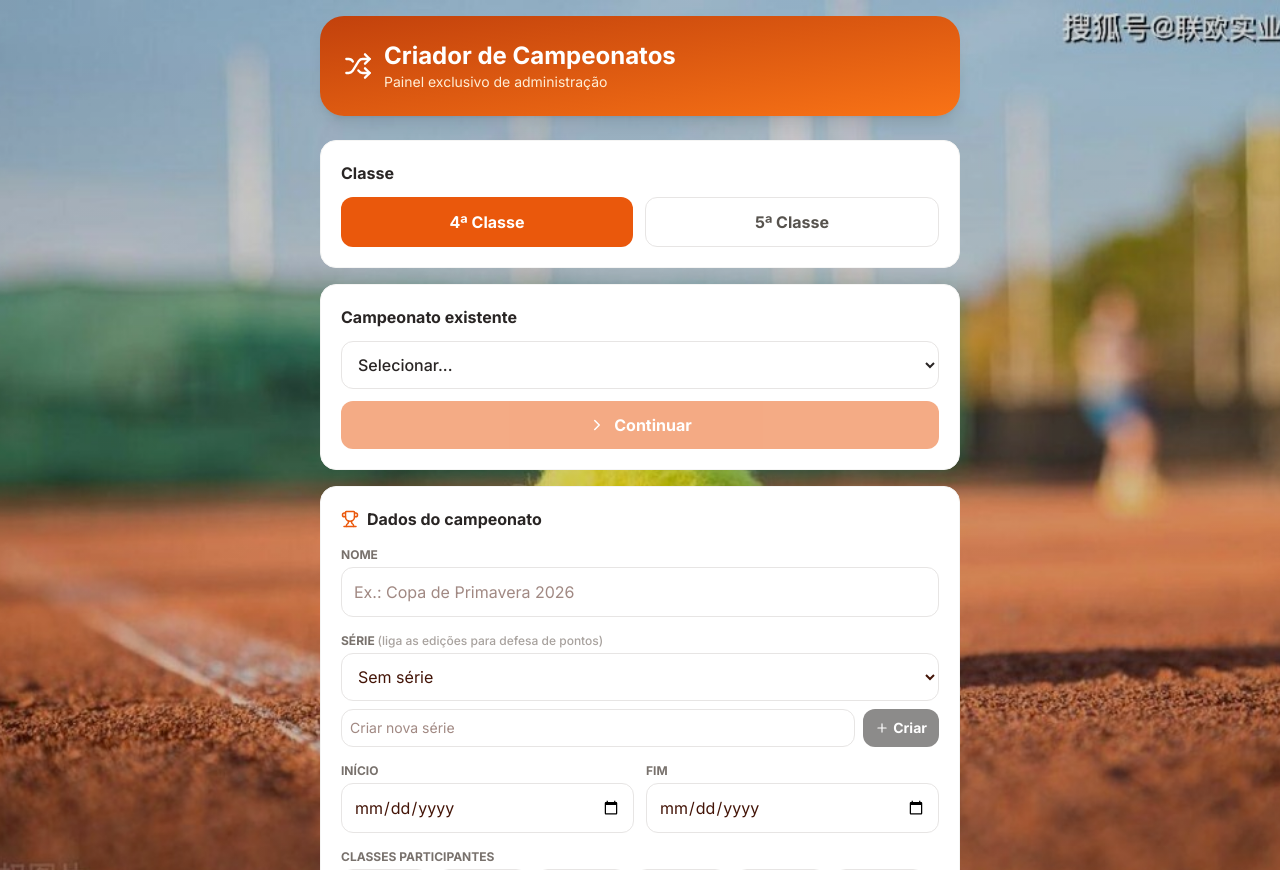
Test: ChampionshipCreator — em que passo o campeonato reabre › sem rodada criada, volta para as inscrições
Select "3º Circuito de Inverno (draft)" in the 1st dropdown. click: (640, 365)
box: top-left (341, 341), bottom-right (939, 389)
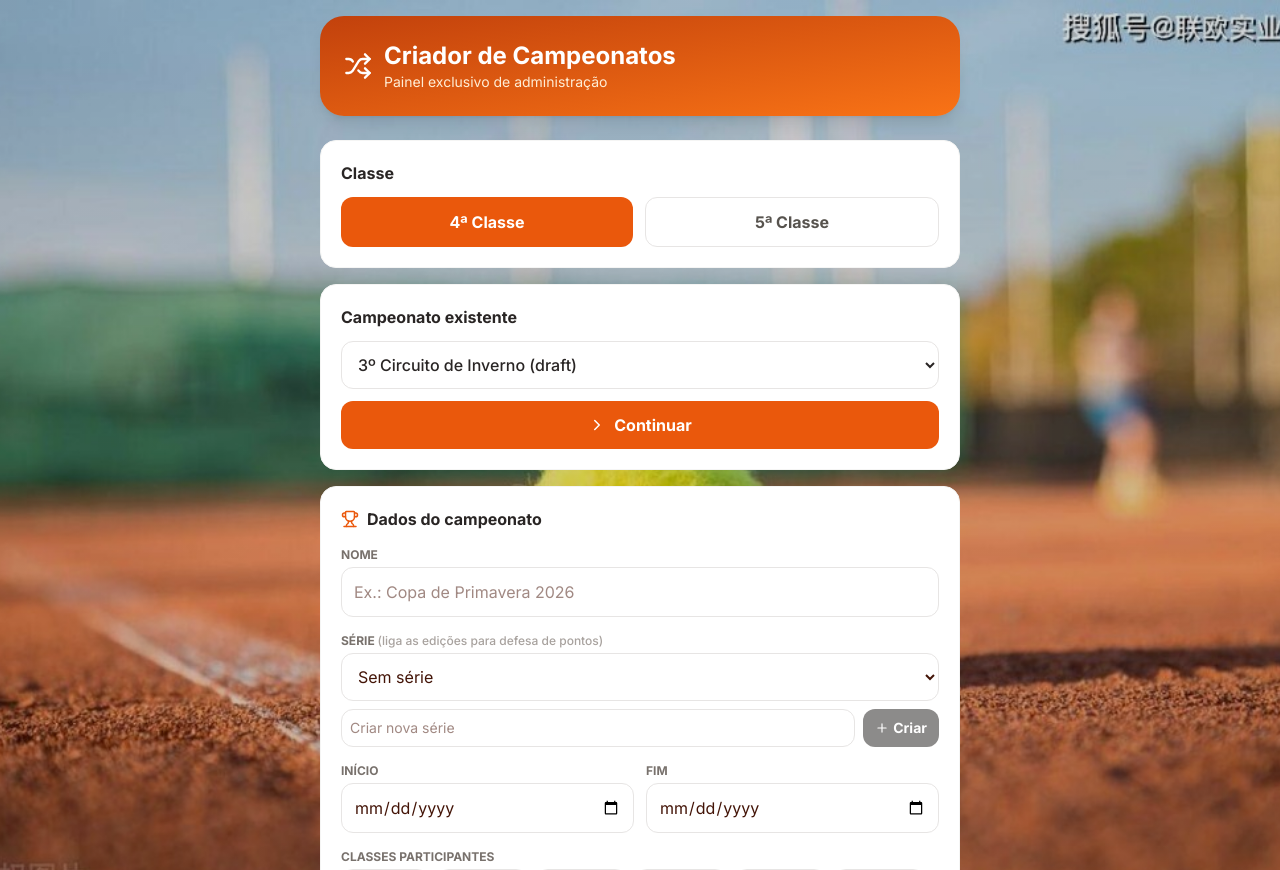
Click the button "Continuar". click: click(640, 425)
box: top-left (341, 401), bottom-right (939, 449)
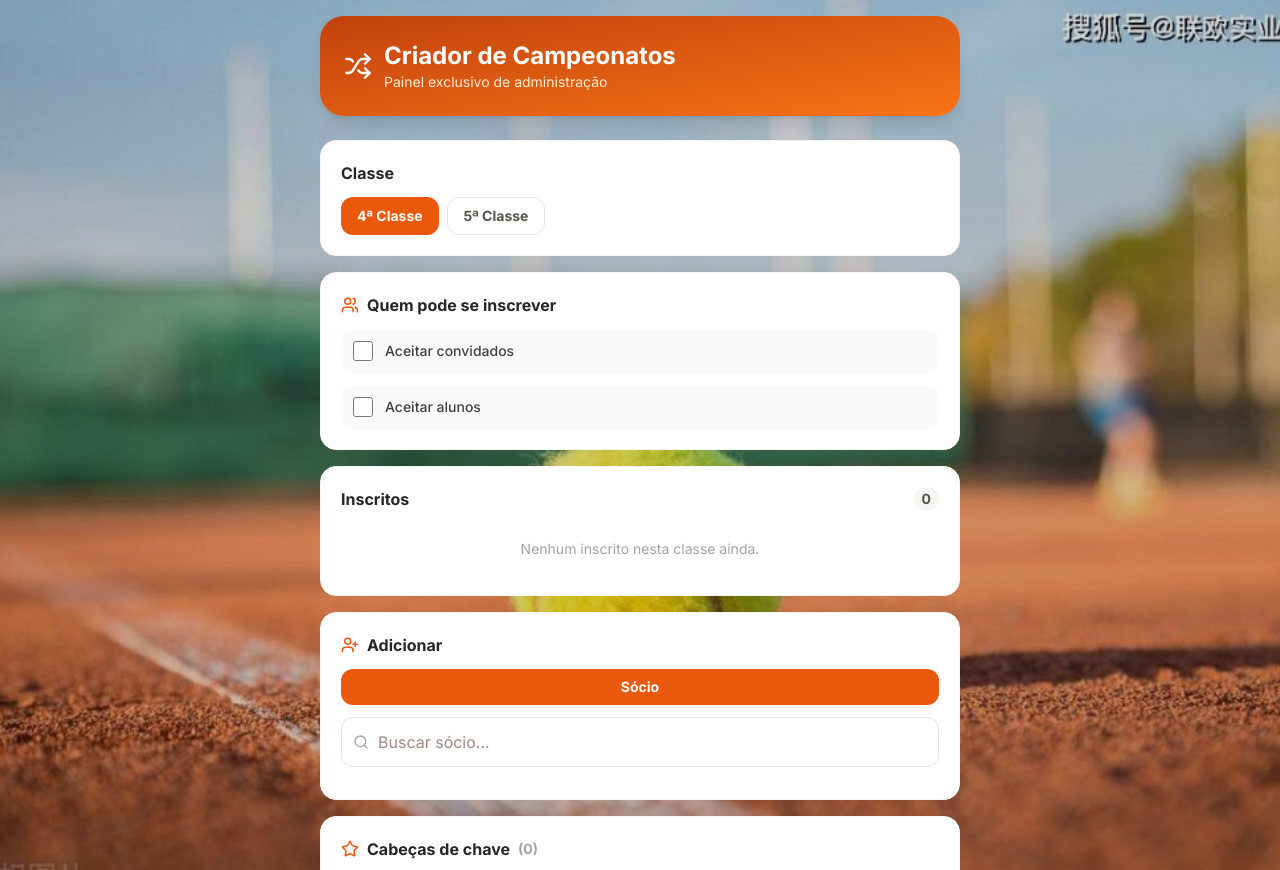
Result: the heading "Campeonato existente" is gone
